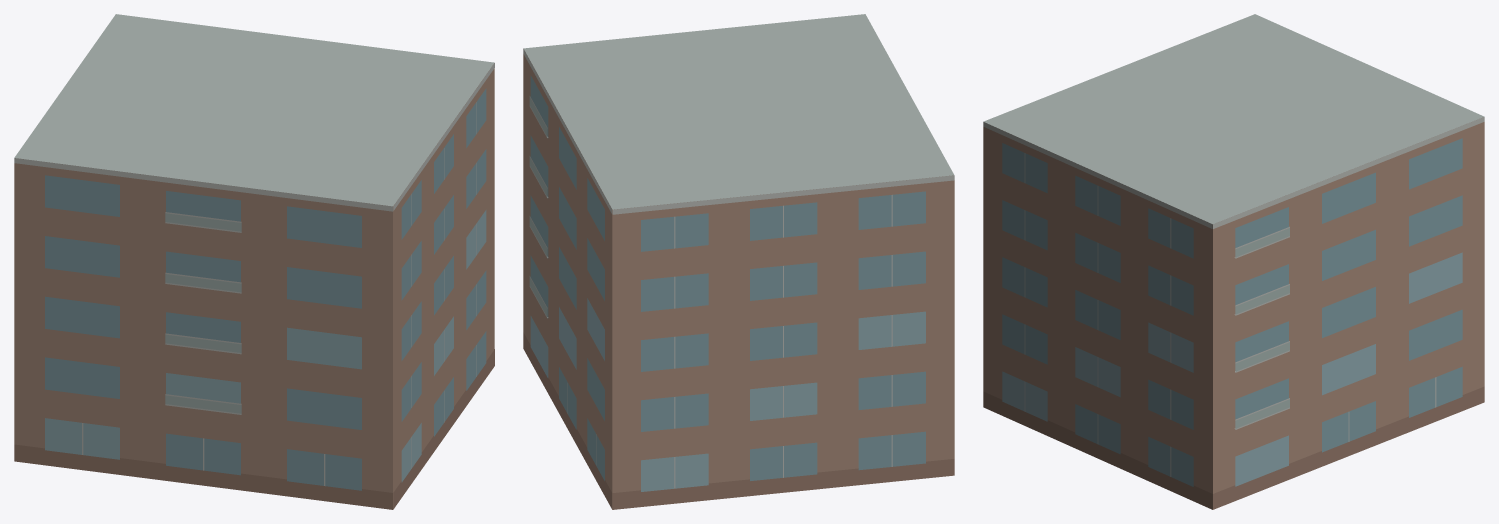
File: survey-upis-32651618.glb
3 views of the same model, side by side, from view 1: azimuth 30°, elevation 25°; view 2: azimuth 150°, elevation 25°; view 3: azimuth 270°, elevation 25° (orthographic). The views are drawn at different scales.
Parts seen in each view (by area): view 1: survey-upis-32651618.tmp; view 2: survey-upis-32651618.tmp; view 3: survey-upis-32651618.tmp.
Boxes of the visible parts, box(x1,y1,x2,y2) form: survey-upis-32651618.tmp: box(14, 14, 494, 509); survey-upis-32651618.tmp: box(523, 14, 954, 509); survey-upis-32651618.tmp: box(983, 14, 1484, 509).
Size of the model in its own units: 22.36 by 14.15 by 22.53.
